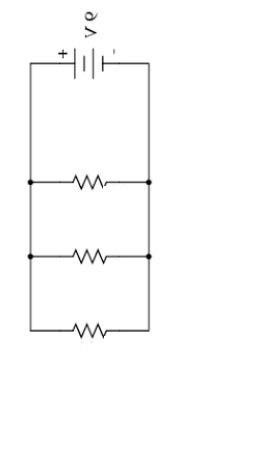resistor: (51, 237, 117, 277), (58, 312, 125, 345), (65, 161, 120, 194)
